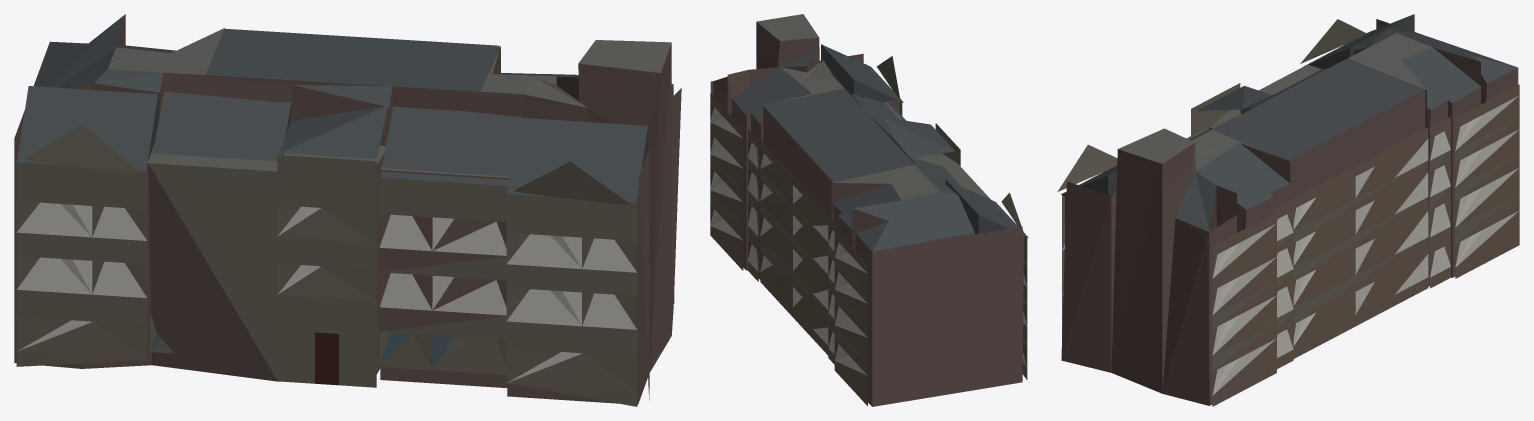
Rendered from barlaeus-gymnasium.lod2.glb.
The picture shows the model from 3 angles, left to right: view 1: azimuth 30°, elevation 25°; view 2: azimuth 150°, elevation 25°; view 3: azimuth 270°, elevation 25°; orthographic projection. The views are drawn at different scales.
Parts seen in each view (by area): view 1: lod2; view 2: lod2; view 3: lod2.
Part boxes in pixels (x1,y1,x2,y2): lod2: (14,14,681,406); lod2: (710,14,1028,406); lod2: (1057,14,1519,406).
Bounding box in the file's own units: 50.38 × 25.2 × 45.88.
